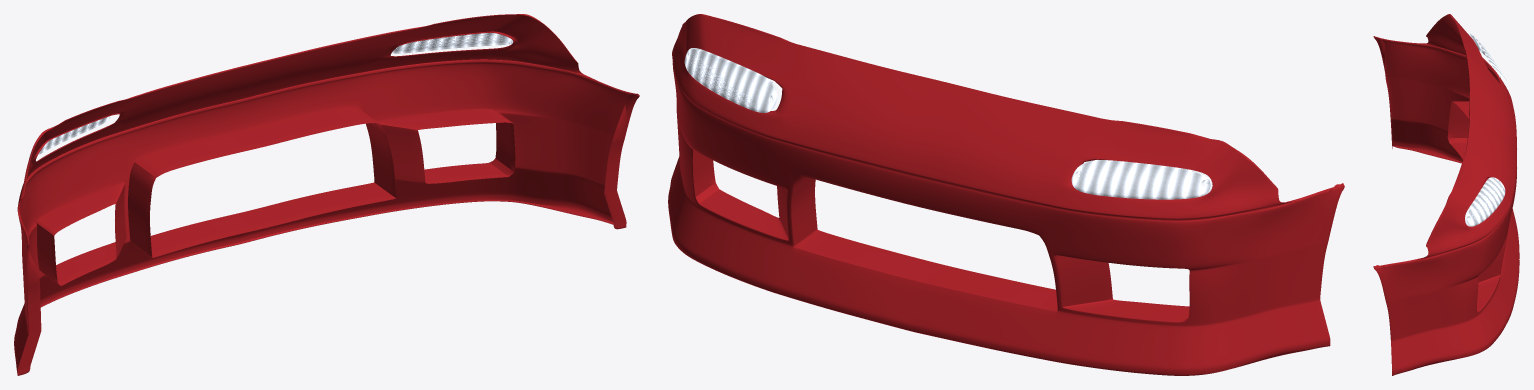
3 renders of one model, left to right at view 1: azimuth 30°, elevation 25°; view 2: azimuth 150°, elevation 25°; view 3: azimuth 270°, elevation 25°, orthographic. The views are drawn at different scales.
Visible parts, largest first — view 1: Miata_Aero_FrontBarBN, Miata_BN_RunningLens.001, Miata_BN_RunningLens; view 2: Miata_Aero_FrontBarBN, Miata_BN_RunningLens, Miata_BN_RunningLens.001; view 3: Miata_Aero_FrontBarBN, Miata_BN_RunningLens.001, Miata_BN_RunningLens.
Part boxes in pixels (x1,y1,x2,y2): Miata_Aero_FrontBarBN: (14,14,639,375); Miata_BN_RunningLens.001: (392,33,513,53); Miata_BN_RunningLens: (29,115,112,158); Miata_Aero_FrontBarBN: (668,14,1344,375); Miata_BN_RunningLens: (1071,160,1212,199); Miata_BN_RunningLens.001: (684,48,777,112); Miata_Aero_FrontBarBN: (1373,14,1519,375); Miata_BN_RunningLens.001: (1465,177,1505,226); Miata_BN_RunningLens: (1468,33,1506,82).
Size of the model in its own units: 64.32 by 20.82 by 17.15.
